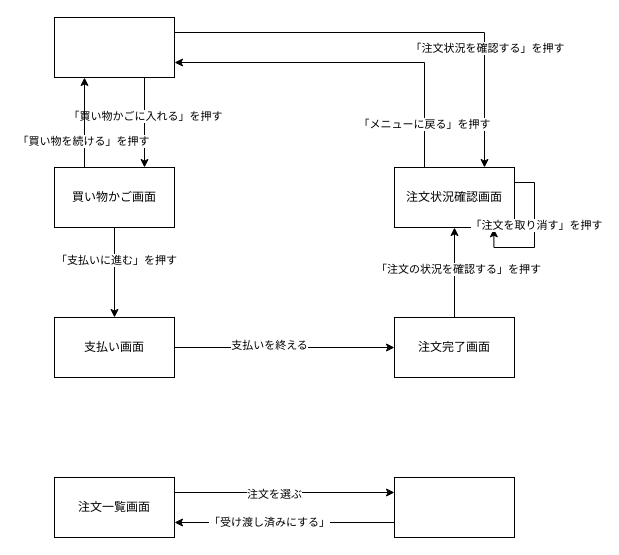
The diagram is 619 pixels wide and 555 high, and some of its shapes have lost their labels. Each missing label, with the centre of its shape:
商品一覧画面: the point at 114,47
注文詳細画面: the point at 454,507
